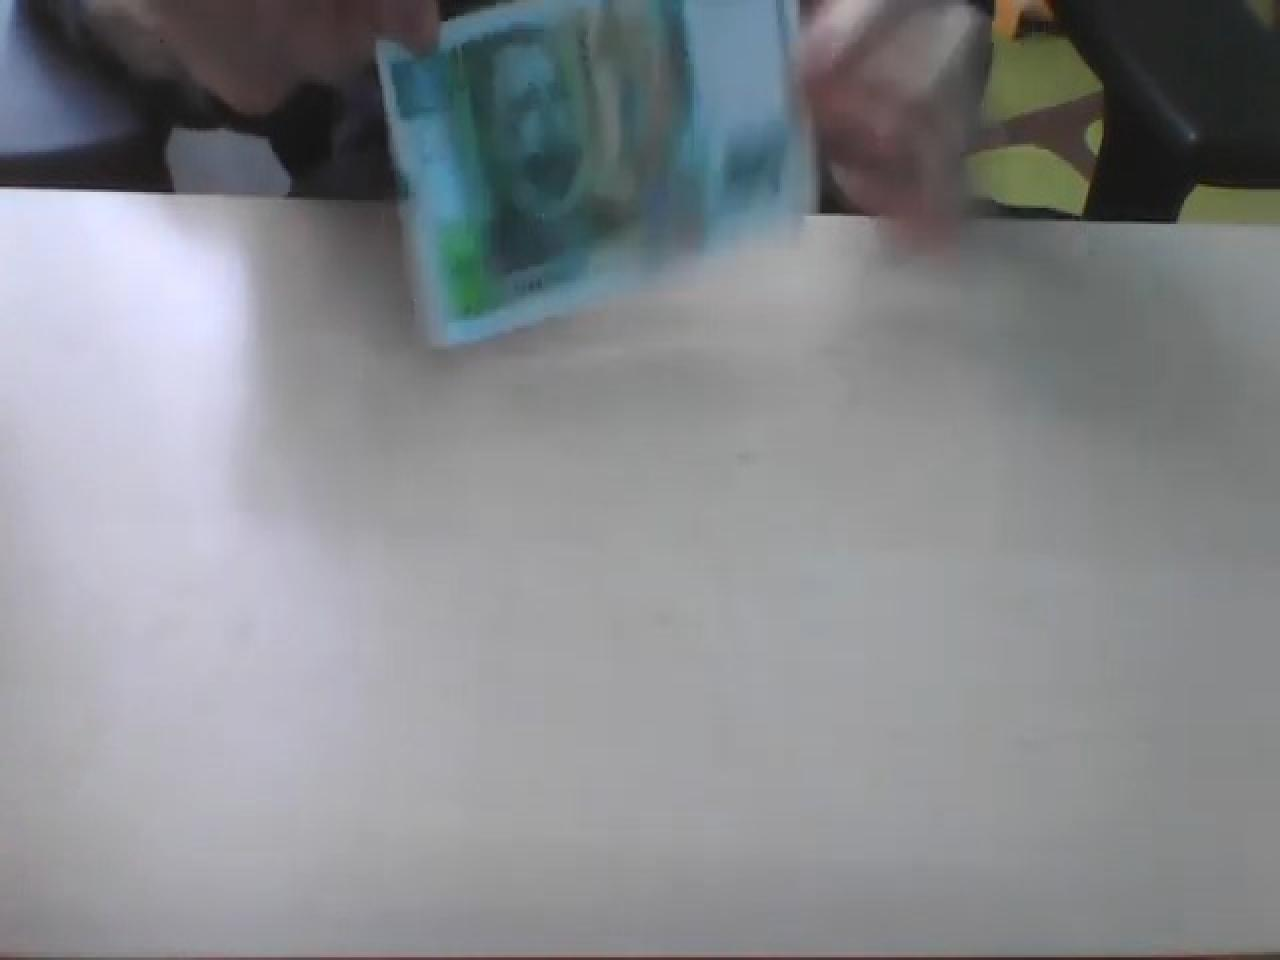100leva: (372, 0, 812, 349)
